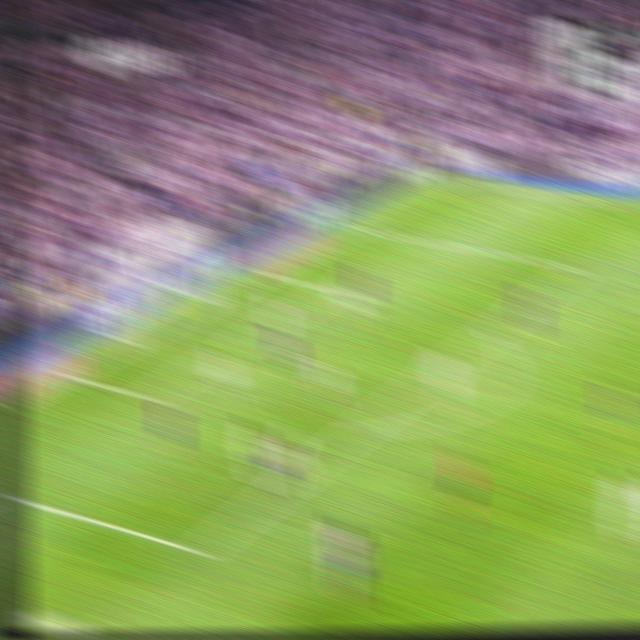bigarea_bottom_inner: (183, 530, 213, 570)
bigarea_top_inner: (567, 255, 592, 281)
bigarea_top_outter: (340, 215, 365, 237)
bottom_arc_area_intersection: (346, 415, 372, 443)
corner: (432, 170, 456, 187)
smallarea_bottom_inner: (135, 382, 161, 410)
smallarea_top_inner: (322, 277, 346, 301)
top_arc_area_intersection: (477, 320, 502, 344)
